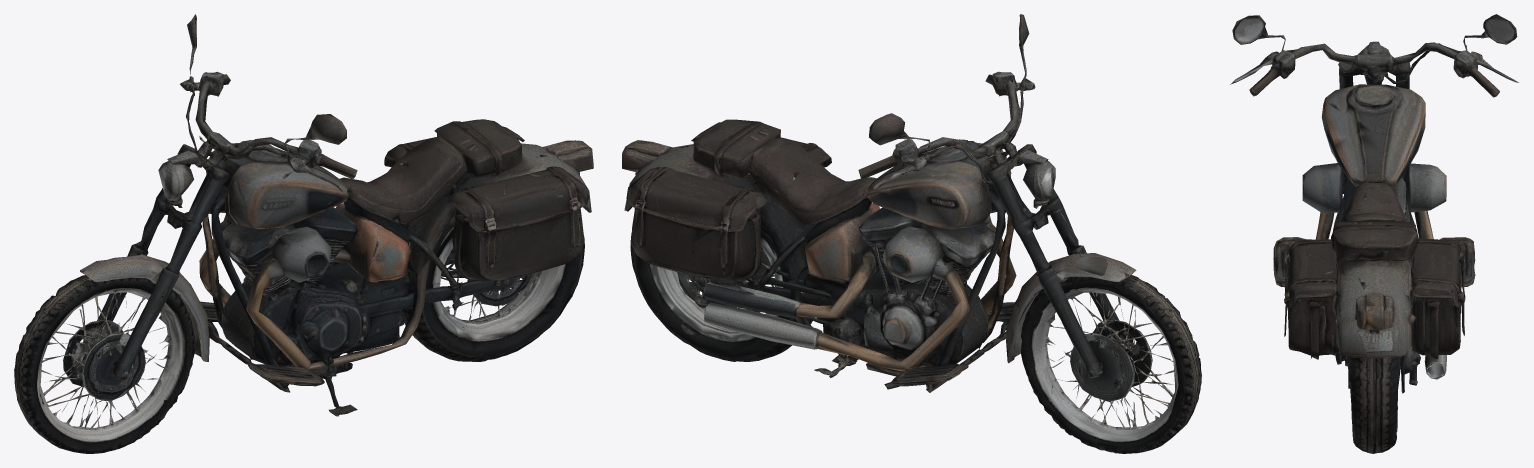
The model's file is car_motorcycle_light_q4.glb.
3 views of the same model, side by side, from view 1: azimuth 30°, elevation 25°; view 2: azimuth 150°, elevation 25°; view 3: azimuth 270°, elevation 25° (orthographic). The views are drawn at different scales.
Bounding box in the file's own units: 2.58 × 1.5 × 1.21.
1 material, 1 textured.
